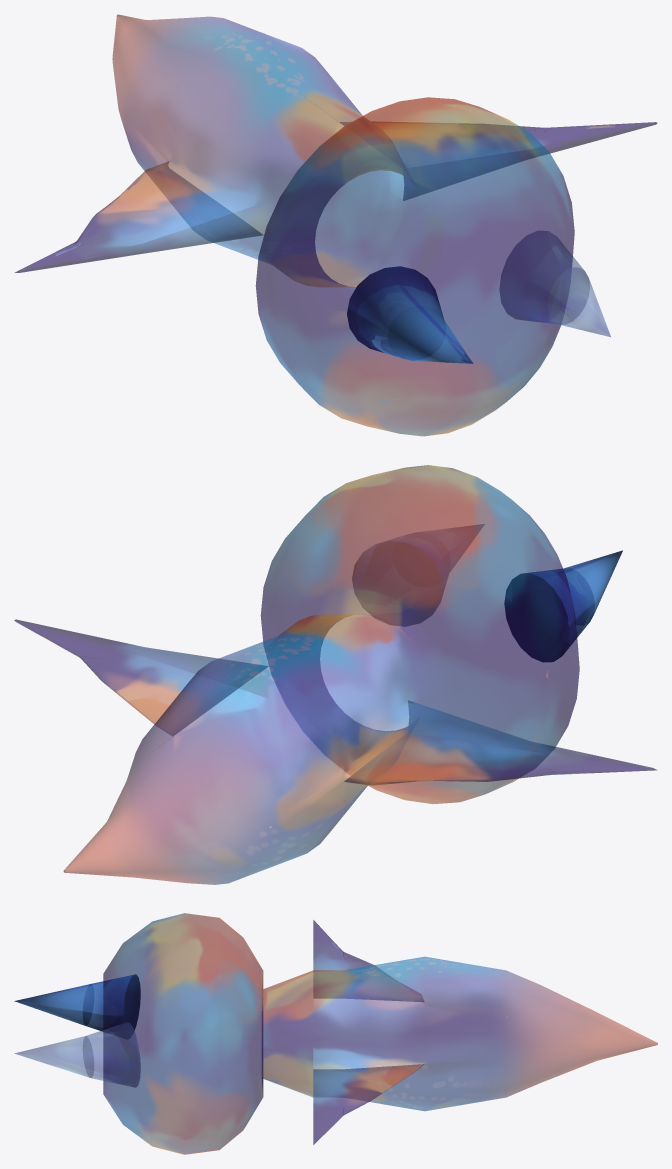
3 views of the same model, one above another, from view 1: azimuth 30°, elevation 25°; view 2: azimuth 150°, elevation 25°; view 3: azimuth 270°, elevation 25° (orthographic). The views are drawn at different scales.
Visible parts, largest first — view 1: Cylinder, Cylinder.001, Cylinder.002; view 2: Cylinder, Cylinder.002, Cylinder.001; view 3: Cylinder, Cylinder.001, Cylinder.002.
Part boxes in pixels (box(x1,y1,x2,y2)): Cylinder: box(15, 14, 657, 436); Cylinder.001: box(347, 266, 473, 363); Cylinder.002: box(499, 231, 610, 336); Cylinder: box(14, 465, 656, 884); Cylinder.002: box(352, 524, 484, 626); Cylinder.001: box(504, 550, 622, 662); Cylinder: box(103, 913, 657, 1154); Cylinder.001: box(14, 974, 140, 1039); Cylinder.002: box(14, 1022, 140, 1087).
Bounding box in the file's own units: 1.27 × 0.5875 × 1.57.
3 materials, 3 textured.
